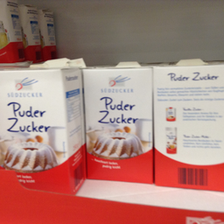sugar: (1, 67, 85, 196), (153, 66, 224, 192), (82, 65, 154, 185)
